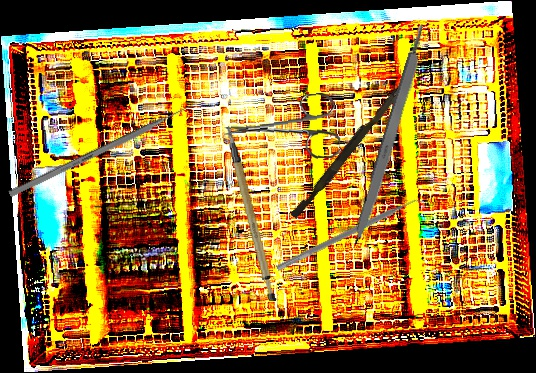Iris Scissors: (221, 92, 342, 165)
Pusher: (290, 65, 417, 222), (8, 97, 203, 199)
Scalpel Handle: (350, 22, 433, 247), (225, 123, 279, 304)
Spatula Surgical: (275, 191, 427, 279)
